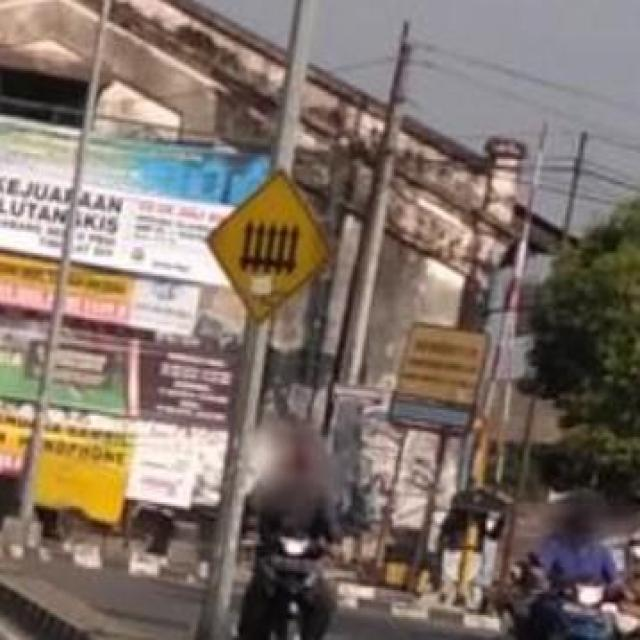traffic sign: (201, 173, 328, 316)
